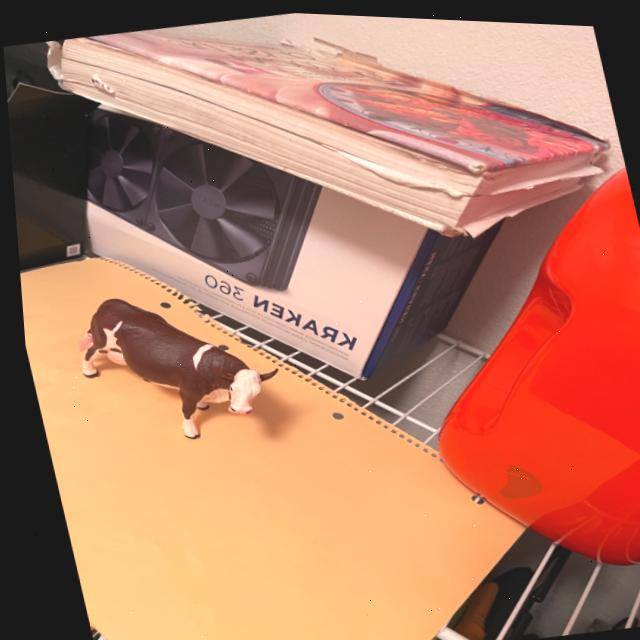cow: (58, 289, 273, 459)
